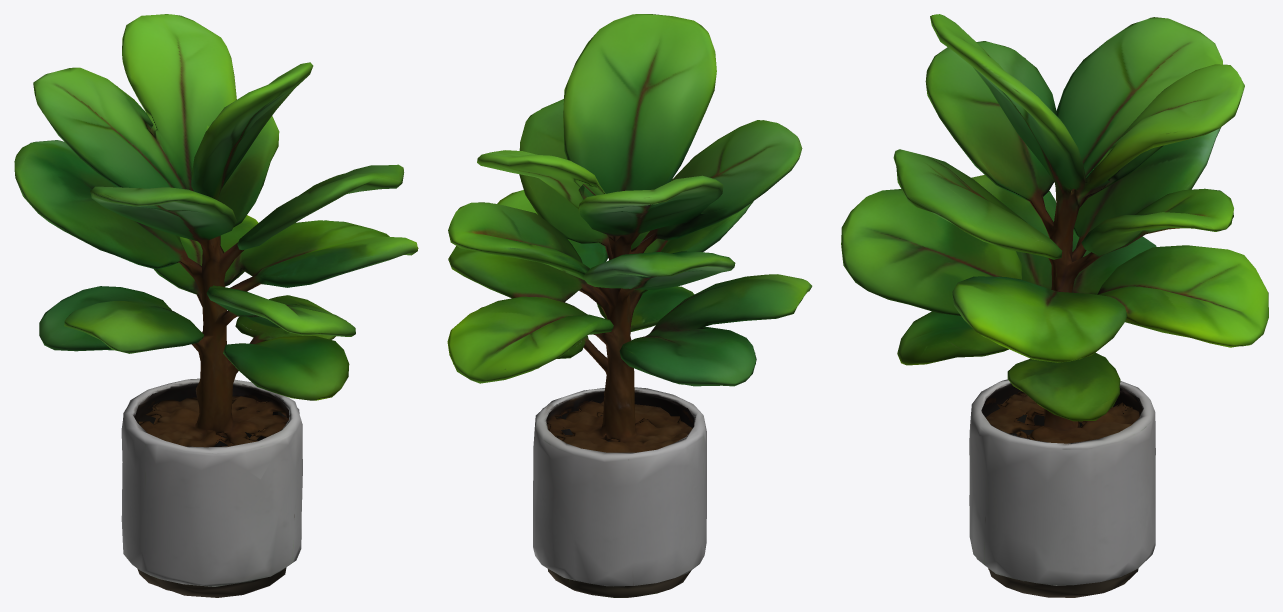
Rendered from teakitchen_large_indoor_plant2.glb.
The picture shows the model from 3 angles, left to right: view 1: azimuth 30°, elevation 25°; view 2: azimuth 150°, elevation 25°; view 3: azimuth 270°, elevation 25°; orthographic projection. The views are drawn at different scales.
Parts seen in each view (by area): view 1: world; view 2: world; view 3: world.
Part boxes in pixels (<box>): world: <box>14,14,418,597</box>; world: <box>447,14,812,597</box>; world: <box>841,14,1268,597</box>.
Size of the model in its own units: 0.6703 by 0.9999 by 0.7075.
1 material, 1 textured.
